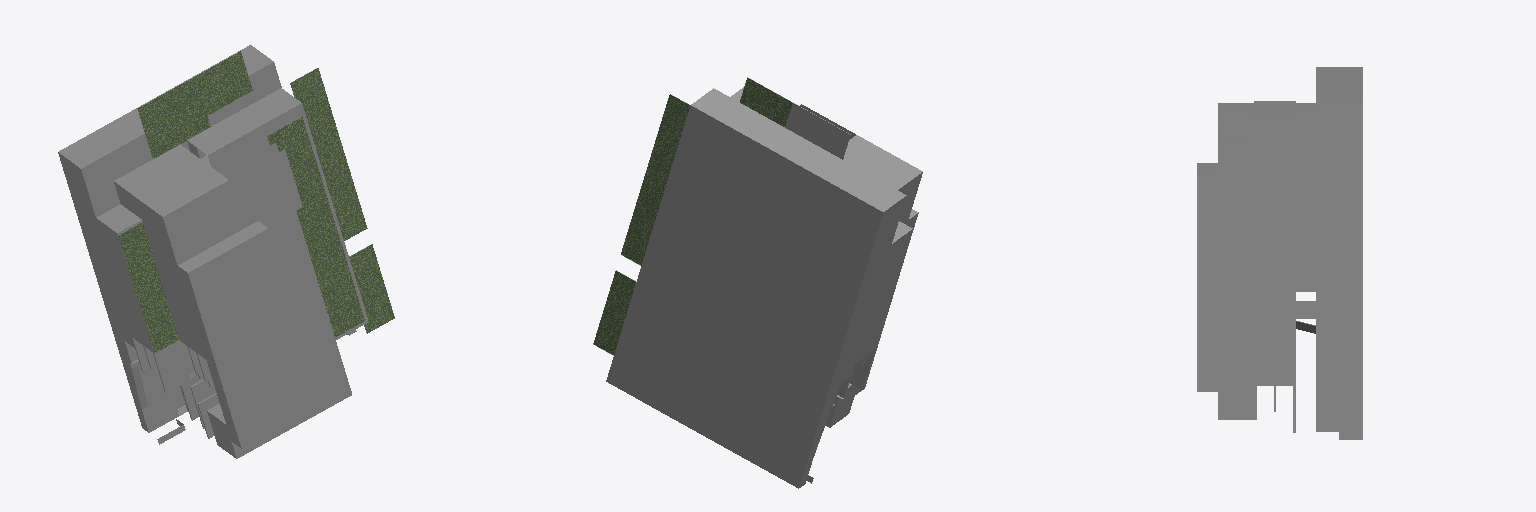
3 views of the same model, side by side, from view 1: azimuth 30°, elevation 25°; view 2: azimuth 150°, elevation 25°; view 3: azimuth 270°, elevation 25° (orthographic).
Size of the model in its own units: 280 by 327 by 128.
Materials: 2 (1 with a texture image).